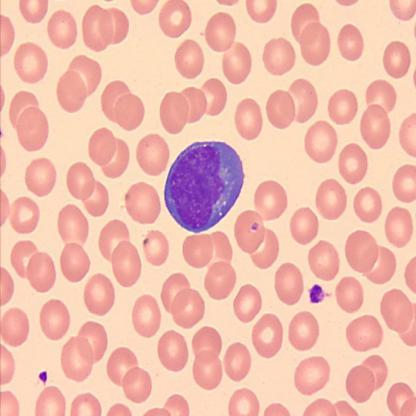Atypical lymphocyte: (163, 138, 246, 233)
